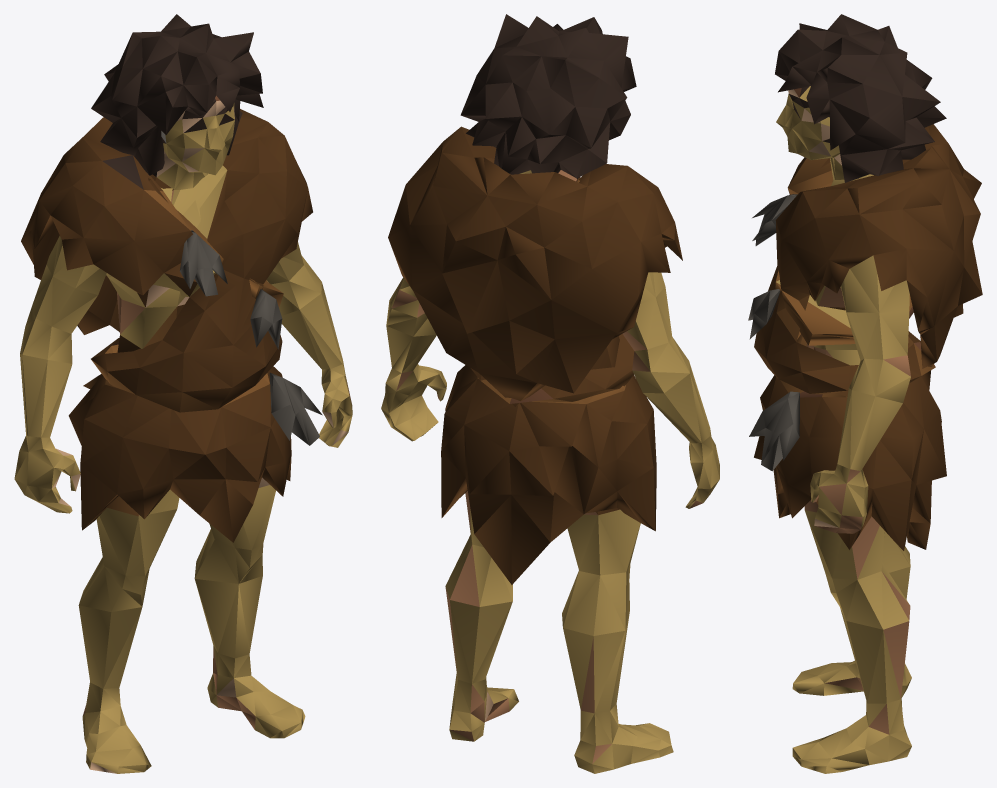
File: unit.wild_person.glb
3 renders of one model, left to right at view 1: azimuth 30°, elevation 25°; view 2: azimuth 150°, elevation 25°; view 3: azimuth 270°, elevation 25°, orthographic. The views are drawn at different scales.
Parts seen in each view (by area): view 1: asset; view 2: asset; view 3: asset.
Part boxes in pixels (x1,y1,x2,y2): asset: (14,14,352,773); asset: (381,14,719,773); asset: (748,14,982,773).
Size of the model in its own units: 0.4368 by 0.9 by 0.2753.
